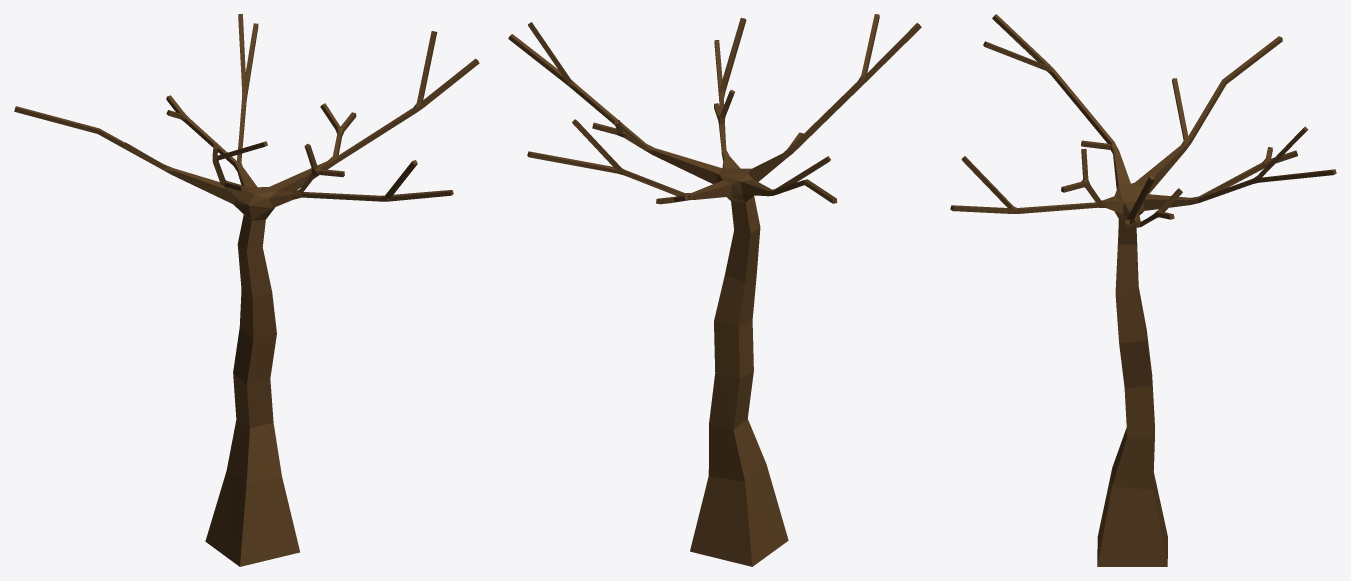
Rendered from Tree.obj.
3 views of the same model, side by side, from view 1: azimuth 30°, elevation 25°; view 2: azimuth 150°, elevation 25°; view 3: azimuth 270°, elevation 25° (orthographic). The views are drawn at different scales.
Parts seen in each view (by area): view 1: Tree_立方体.007; view 2: Tree_立方体.007; view 3: Tree_立方体.007.
Boxes of the visible parts, <box> form: Tree_立方体.007: <box>14,14,479,566</box>; Tree_立方体.007: <box>508,14,921,566</box>; Tree_立方体.007: <box>950,14,1336,566</box>.
Size of the model in its own units: 8.11 by 9.51 by 6.86.
Materials: 1 (1 with a texture image).
